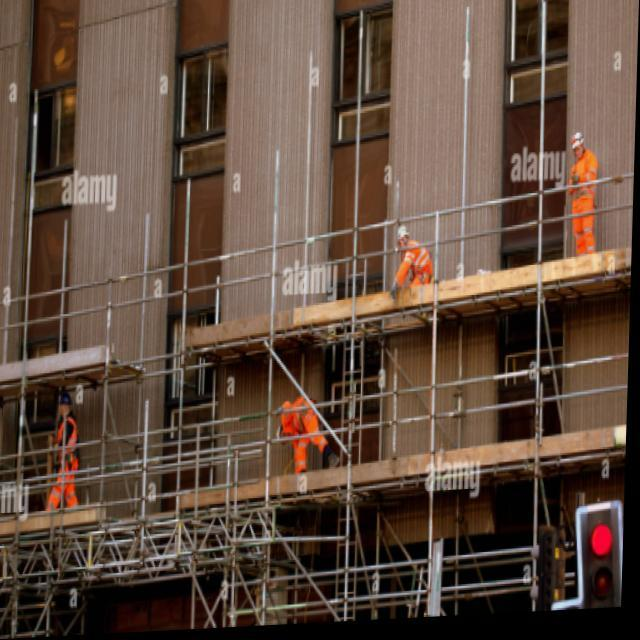hard_hat: (570, 131, 586, 161), (57, 391, 72, 419), (395, 223, 410, 250), (275, 425, 286, 445)
shoes: (290, 453, 340, 492)
vest: (566, 146, 600, 199), (395, 237, 432, 283), (55, 416, 80, 465), (279, 398, 309, 435)
